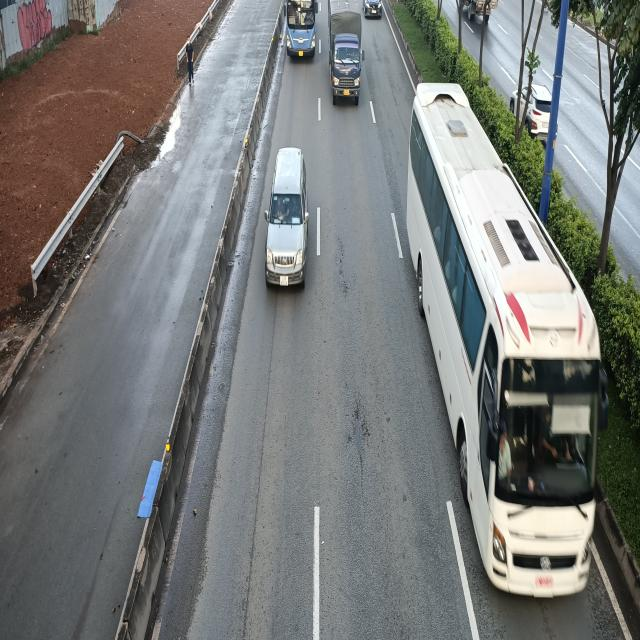car: (264, 149, 309, 289)
coach: (409, 80, 609, 600), (280, 0, 318, 58)
truck: (328, 1, 364, 107)
